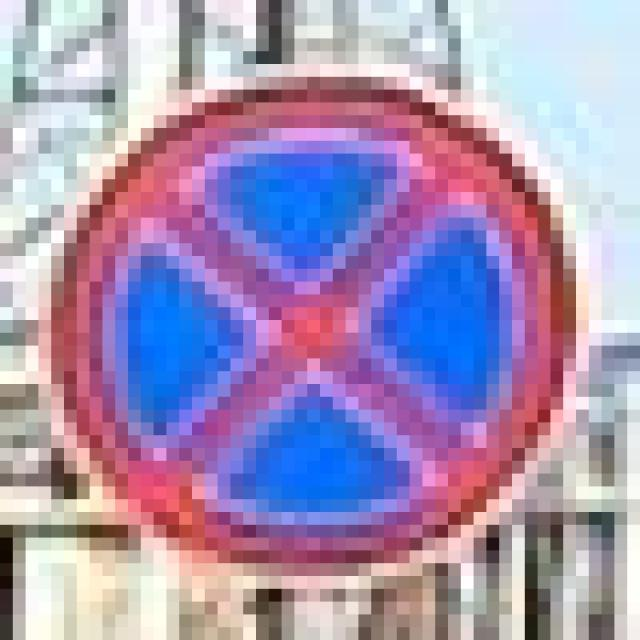no stopping or standing: (37, 75, 592, 603)
